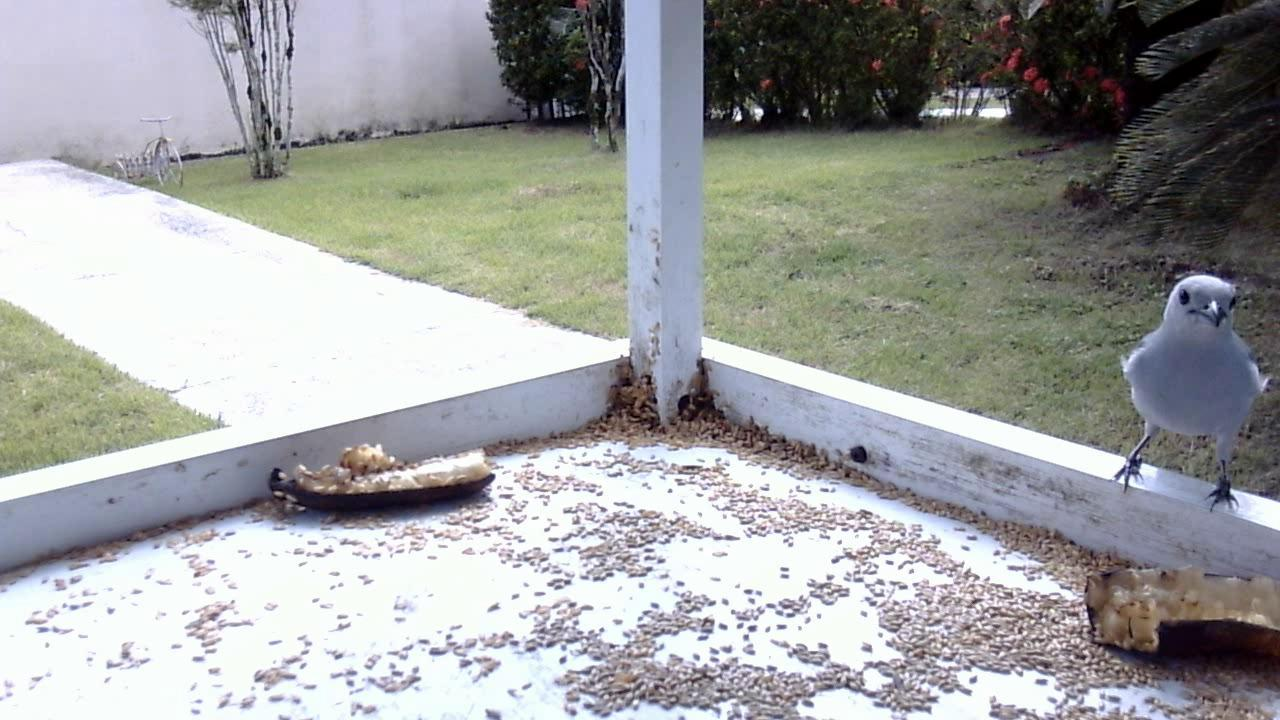sanhaco_da_amazonia: (1111, 274, 1270, 513)
